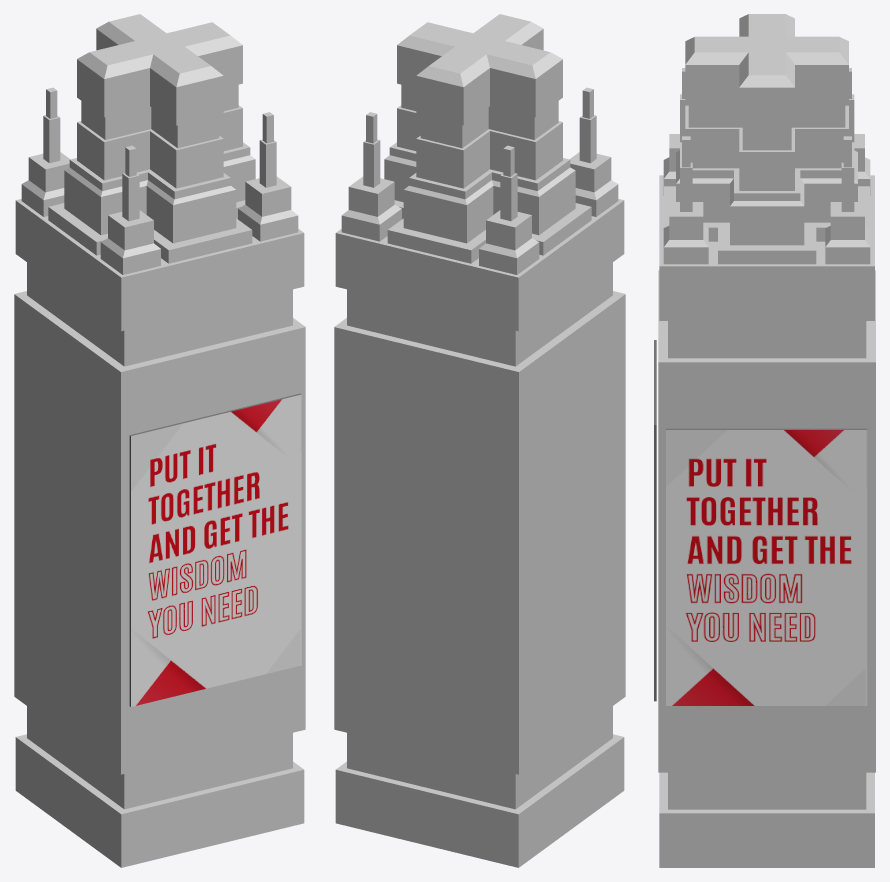
3 renders of one model, left to right at view 1: azimuth 30°, elevation 25°; view 2: azimuth 150°, elevation 25°; view 3: azimuth 270°, elevation 25°, orthographic.
Parts seen in each view (by area): view 1: gedung 4, bb1.001; view 2: gedung 4; view 3: gedung 4, bb1, bb1.001.
Boxes of the visible parts, x1,y1,x2,y2 form: gedung 4: (14, 14, 305, 867); bb1.001: (129, 393, 301, 706); gedung 4: (334, 14, 625, 867); gedung 4: (658, 14, 875, 867); bb1: (666, 428, 867, 705); bb1.001: (654, 340, 656, 701).
Bounding box in the file's own units: 5.9 × 22.84 × 5.9.
Materials: 3 (1 with a texture image).
